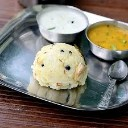venpongal: (36, 45, 88, 87)
